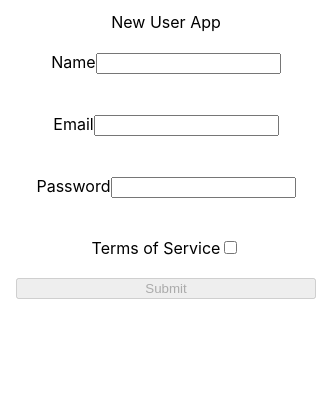
Scenario: Test form input › Check error handling after interaction w/ form
This screenshot has width=333, height=420.
Type "trolled" into the field labelled "Email".
click(187, 126); type("trolled")  # box [94,115,279,136]
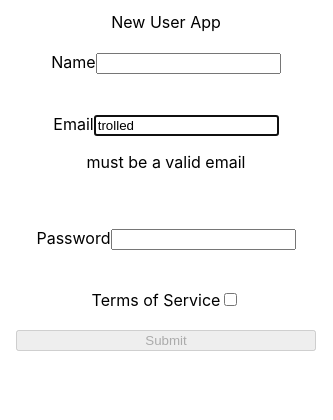
Result: the text "must be a valid email" is shown at [87,152,245,172]
Type "pass" into the password field labelled "Password".
click(204, 240); type("pass")  # box [111,229,296,250]
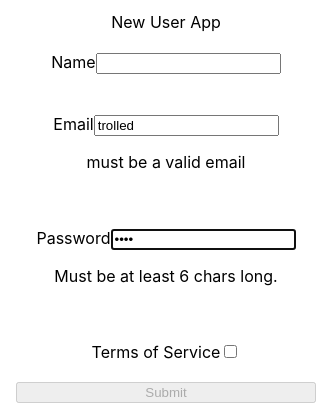
Result: the text "Must be at least 6 chars long." is shown at [36,266,296,286]
